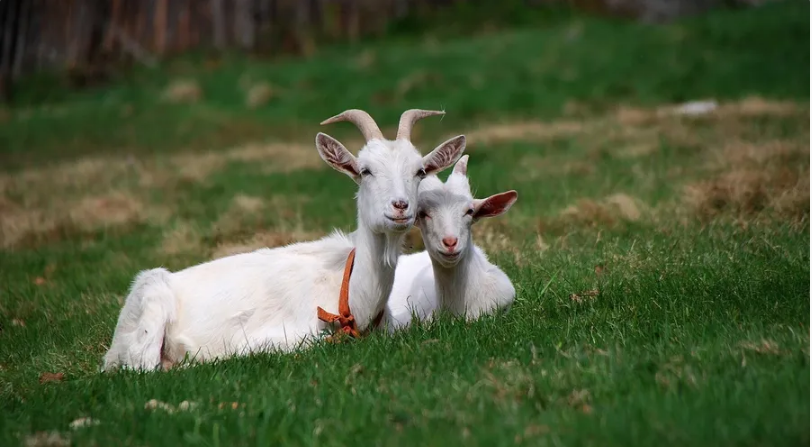goat: (97, 98, 424, 382), (426, 153, 487, 327)
